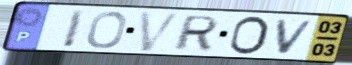I: (60, 8, 88, 49)
O: (226, 15, 271, 56), (85, 10, 129, 50)
R: (170, 14, 222, 52)
V: (138, 11, 185, 53), (276, 18, 318, 56)
